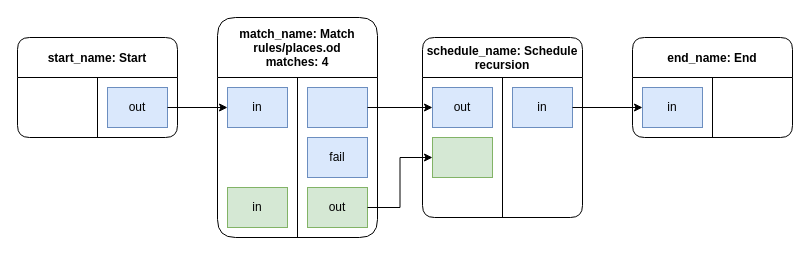
This 810x255 diagram has some shape labels left out. The shapes that lost their labels are listed below. From the top down, each one's centre as x and y in pixels, then its label:
the point at 337,107: success
the point at 462,157: all_places
